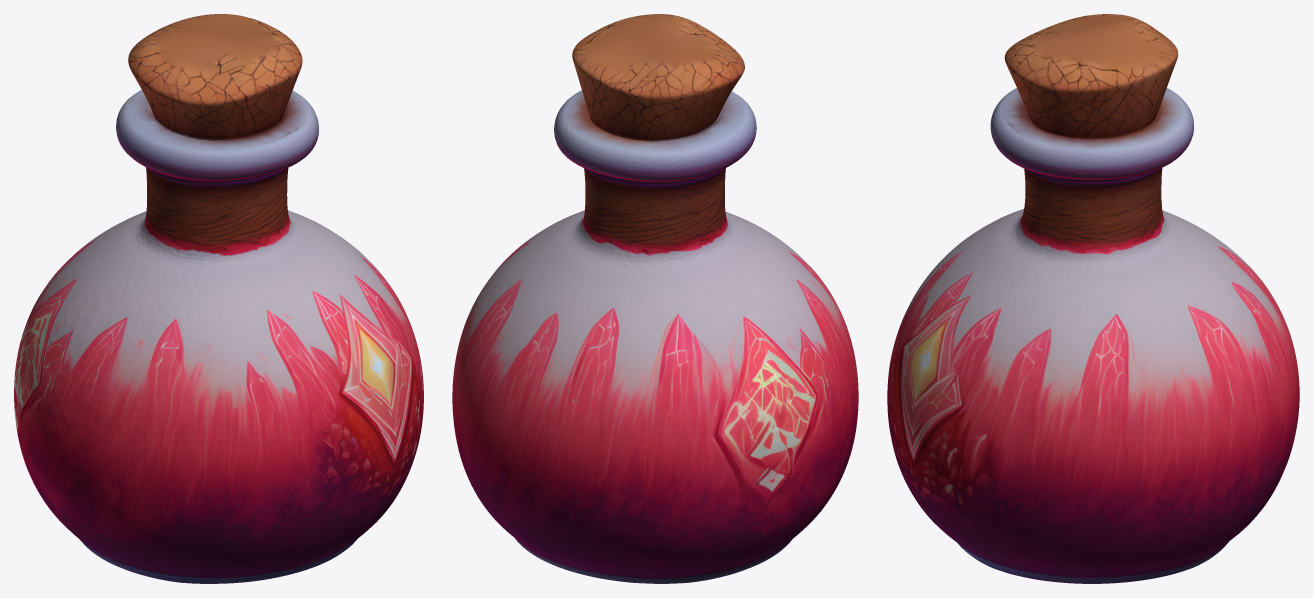
The picture shows the model from 3 angles, left to right: view 1: azimuth 30°, elevation 25°; view 2: azimuth 150°, elevation 25°; view 3: azimuth 270°, elevation 25°; orthographic projection.
Visible parts, largest first — view 1: texture_pbr_v128; view 2: texture_pbr_v128; view 3: texture_pbr_v128.
Part boxes in pixels (bbox=[...]): texture_pbr_v128: bbox=[14, 14, 423, 583]; texture_pbr_v128: bbox=[452, 14, 858, 583]; texture_pbr_v128: bbox=[887, 14, 1299, 583].
Size of the model in its own units: 0.8028 by 1.06 by 0.8102.
1 material, 1 textured.
